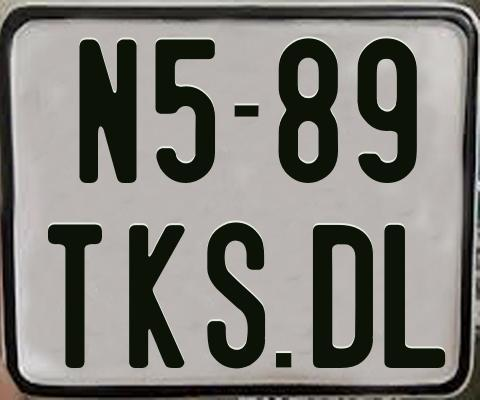5: (152, 37, 217, 186)
8: (278, 37, 342, 182)
9: (355, 37, 417, 188)
D: (310, 224, 376, 371)
K: (128, 225, 184, 369)
L: (383, 222, 446, 371)
N: (79, 37, 138, 185)
S: (206, 220, 266, 371)
T: (48, 222, 107, 366)
